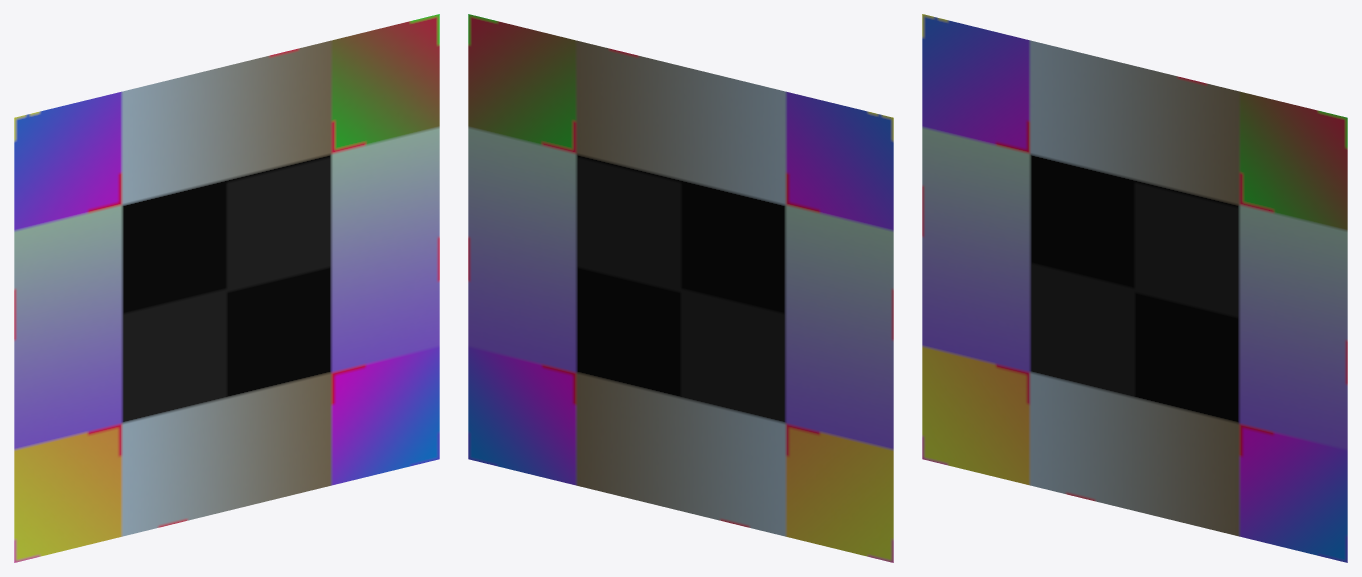
The model's file is quad.glb.
3 renders of one model, left to right at view 1: azimuth 30°, elevation 25°; view 2: azimuth 150°, elevation 25°; view 3: azimuth 330°, elevation 25°, orthographic.
Parts seen in each view (by area): view 1: Plane003; view 2: Plane003; view 3: Plane003.
Part boxes in pixels (<box>): Plane003: <box>14,14,439,562</box>; Plane003: <box>468,14,893,562</box>; Plane003: <box>922,14,1347,562</box>.
Bounding box in the file's own units: 1 × 1 × 1.3e-06.
Materials: 1 (1 with a texture image).
